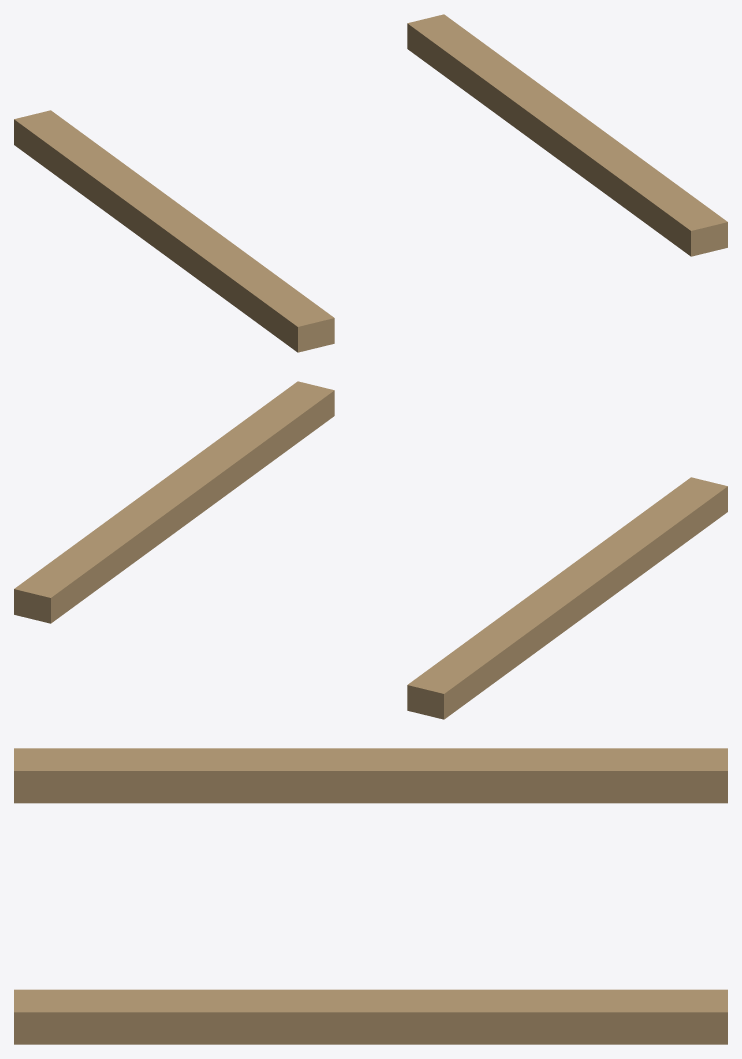
The model's file is paper.glb.
3 renders of one model, top to bottom at view 1: azimuth 30°, elevation 25°; view 2: azimuth 150°, elevation 25°; view 3: azimuth 270°, elevation 25°, orthographic. The views are drawn at different scales.
Visible parts, largest first — view 1: SlotOffcut_-0.016, SlotOffcut_0.016; view 2: SlotOffcut_-0.016, SlotOffcut_0.016; view 3: SlotOffcut_-0.016, SlotOffcut_0.016.
Part boxes in pixels (left/top/right/bottom): SlotOffcut_-0.016: left=14, top=110, right=334, bottom=352; SlotOffcut_0.016: left=407, top=14, right=727, bottom=256; SlotOffcut_-0.016: left=407, top=477, right=727, bottom=719; SlotOffcut_0.016: left=14, top=381, right=334, bottom=623; SlotOffcut_-0.016: left=14, top=748, right=727, bottom=803; SlotOffcut_0.016: left=14, top=989, right=727, bottom=1044.
Bounding box in the file's own units: 0.035 × 0.002 × 0.04.
